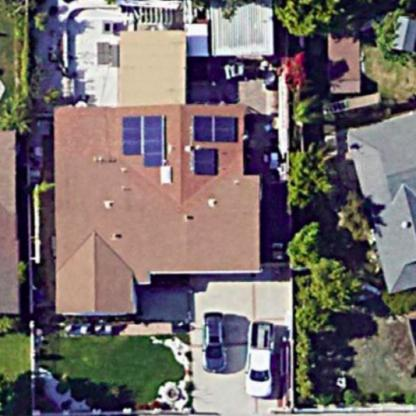car: (242, 319, 278, 400), (195, 306, 231, 376)
solar_panel: (189, 110, 240, 179), (119, 111, 169, 177)
